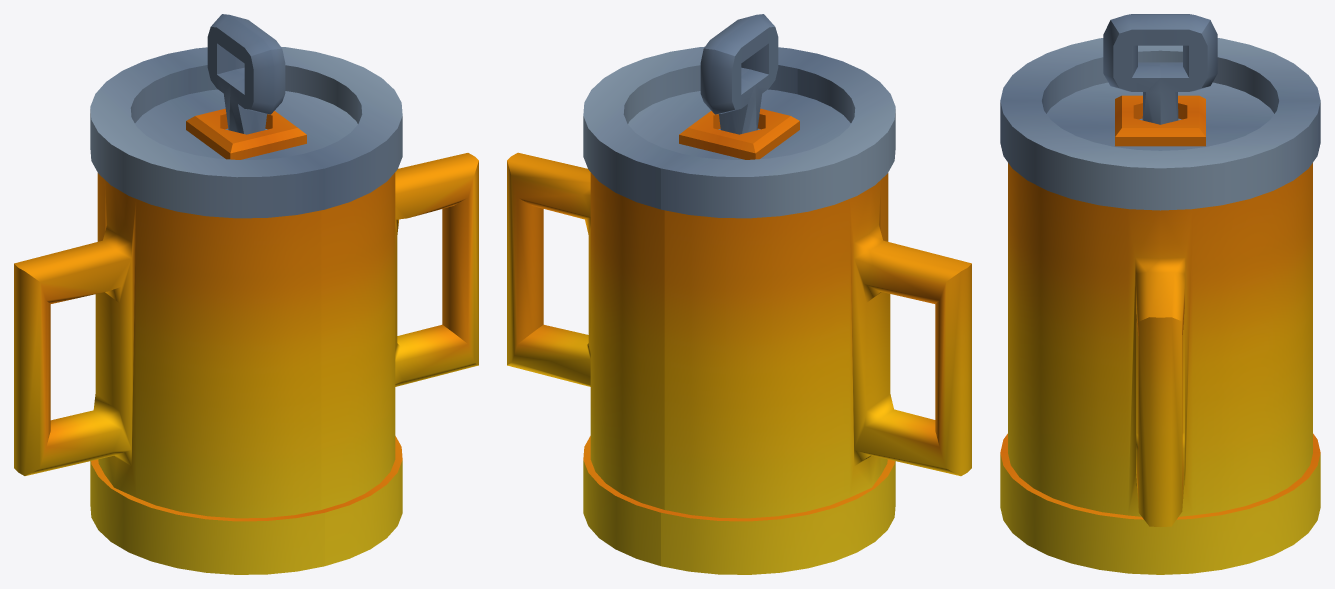
Rendered from CHIPS_escapepod.fbx.
The picture shows the model from 3 angles, left to right: view 1: azimuth 30°, elevation 25°; view 2: azimuth 150°, elevation 25°; view 3: azimuth 270°, elevation 25°; orthographic projection. The views are drawn at different scales.
Visible parts, largest first — view 1: CHIPS_escapepod; view 2: CHIPS_escapepod; view 3: CHIPS_escapepod.
Boxes of the visible parts, <box> form: CHIPS_escapepod: <box>14,14,478,574</box>; CHIPS_escapepod: <box>507,14,971,574</box>; CHIPS_escapepod: <box>1000,14,1320,574</box>.
Size of the model in its own units: 0.00492 by 0.00496 by 0.00292.
1 material, 1 textured.
